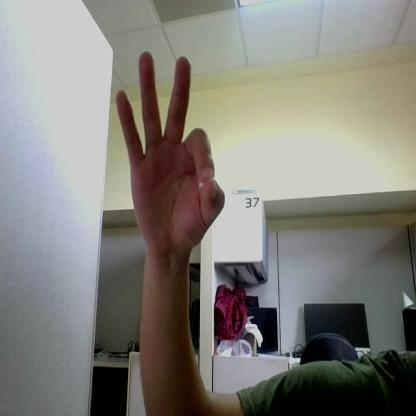F: (117, 53, 225, 245)
